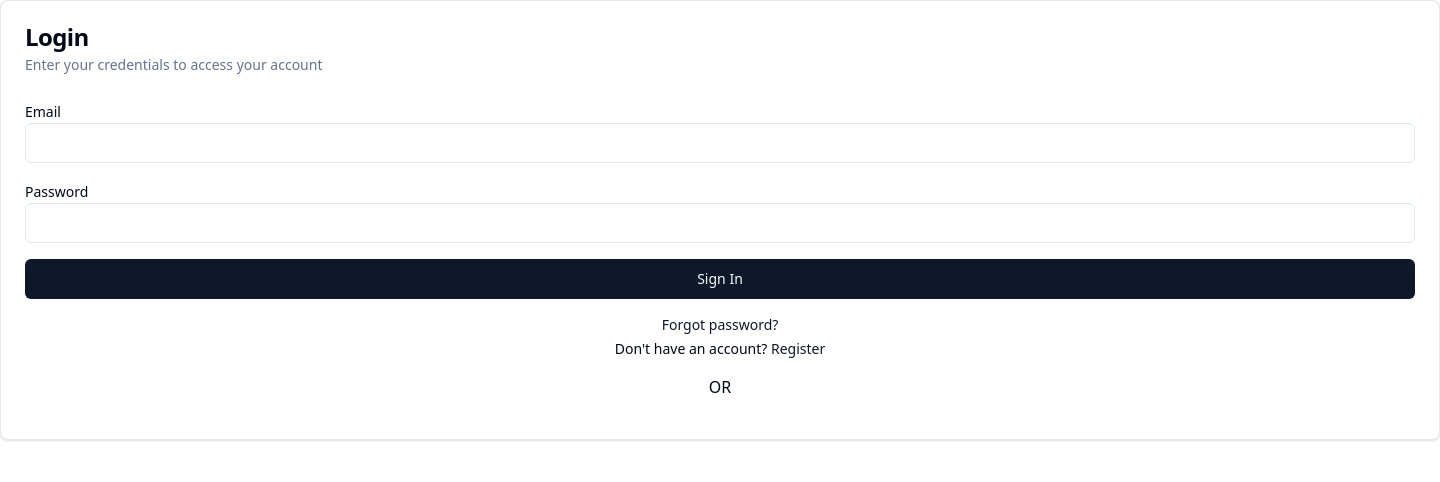
Login Page › should show validation error for invalid email
Type "notanemail" into the field labelled "Email" at (720, 143), box [25, 123, 1415, 163]
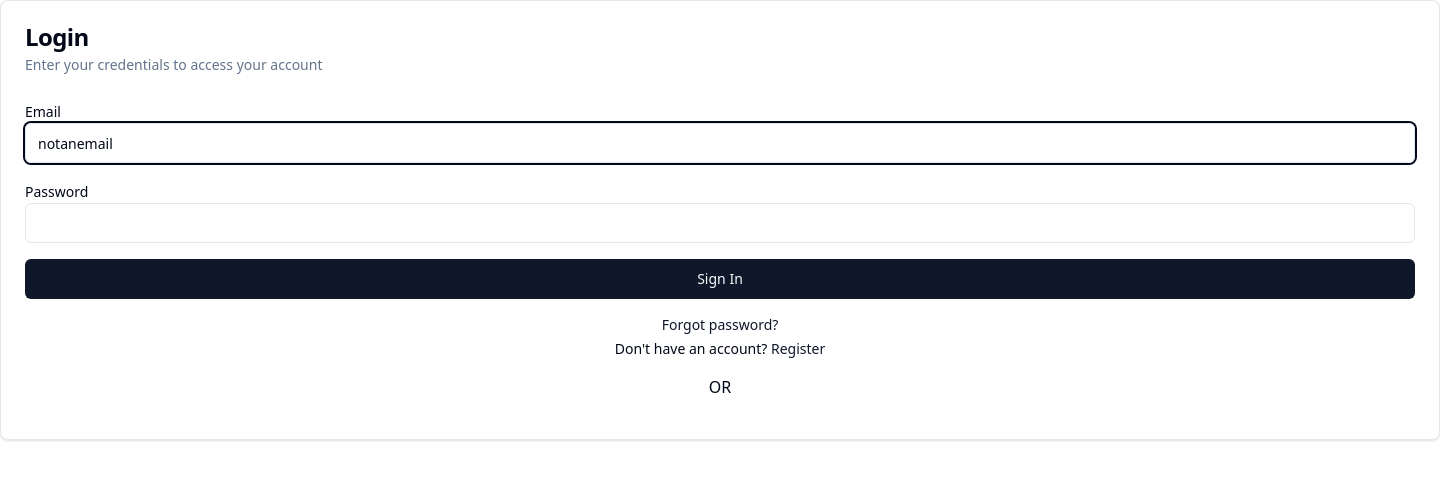
Type "password123" into the password field labelled "Password" at (720, 223), box [25, 203, 1415, 243]
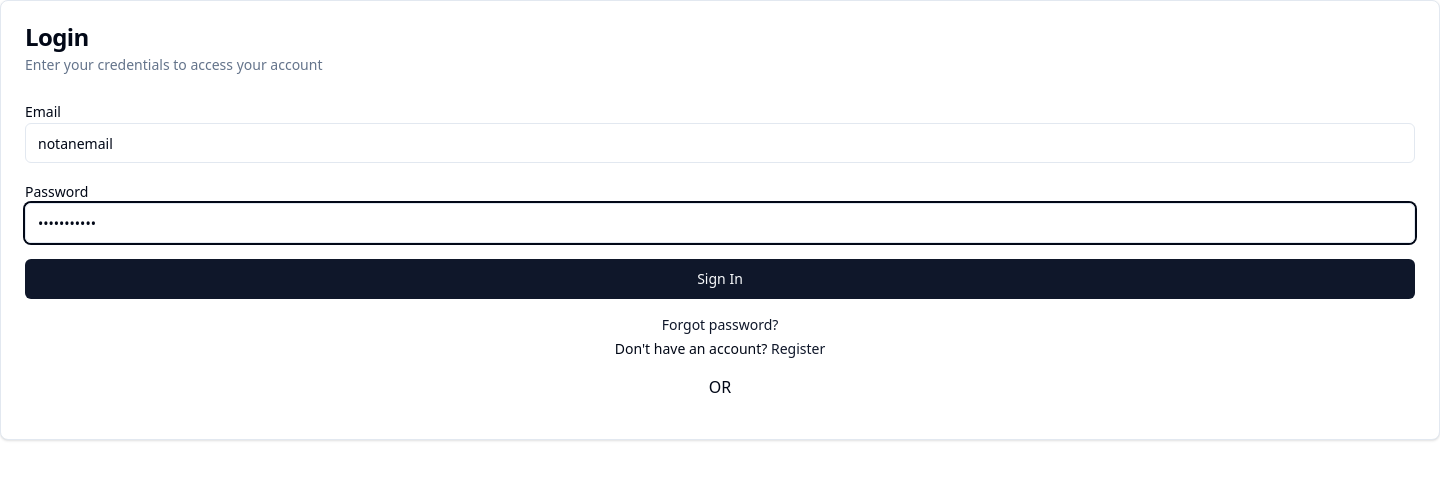
Click the button "Sign In" at (720, 279), box [25, 259, 1415, 299]
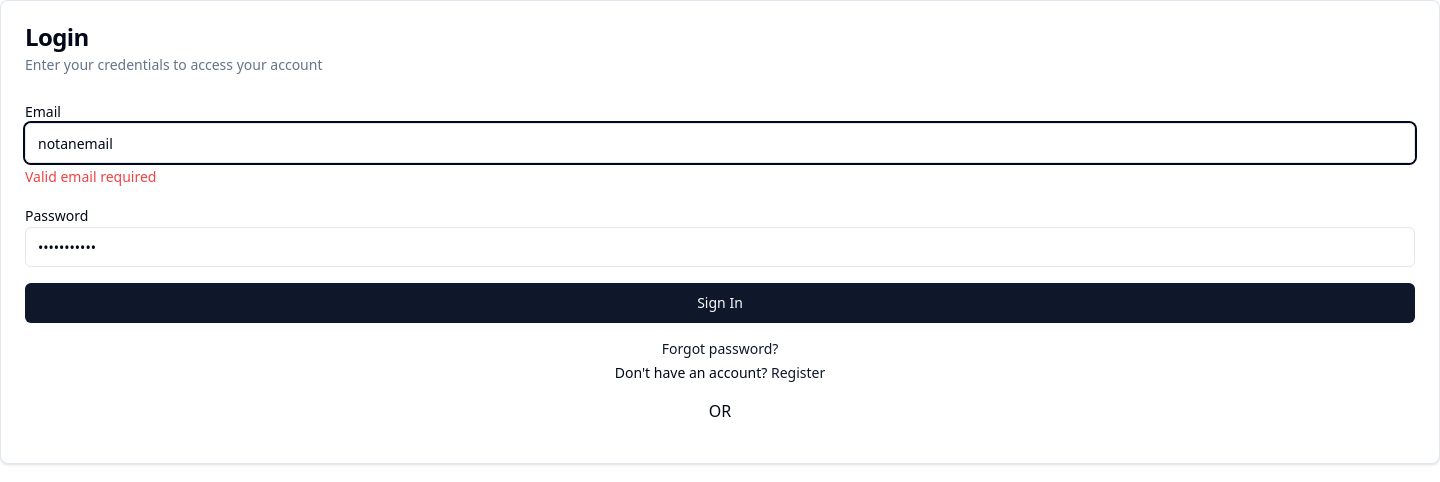
Expected: the text "Valid email required" is shown, [25, 167, 156, 186]
